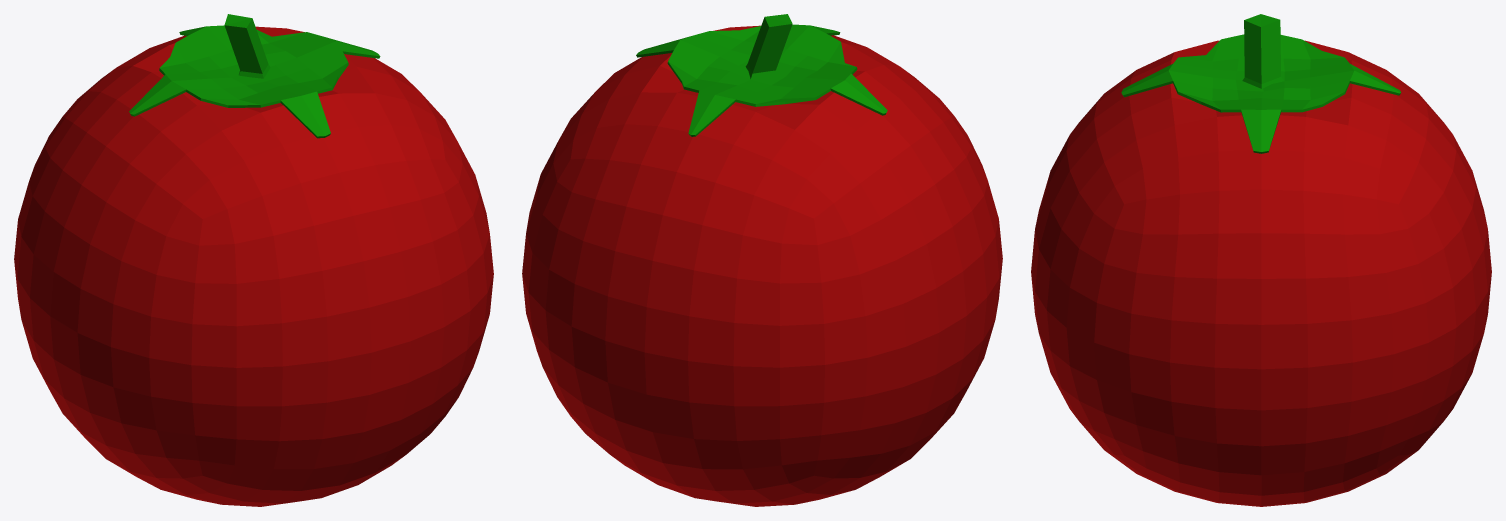
Rendered from Kamatis.glb.
3 renders of one model, left to right at view 1: azimuth 30°, elevation 25°; view 2: azimuth 150°, elevation 25°; view 3: azimuth 270°, elevation 25°, orthographic. The views are drawn at different scales.
Parts seen in each view (by area): view 1: Kamatis; view 2: Kamatis; view 3: Kamatis.
Boxes of the visible parts, <box> form: Kamatis: <box>14,14,493,506</box>; Kamatis: <box>522,14,1002,506</box>; Kamatis: <box>1031,14,1491,506</box>.
Bounding box in the file's own units: 1.68 × 1.83 × 1.68.
1 material, 1 textured.
